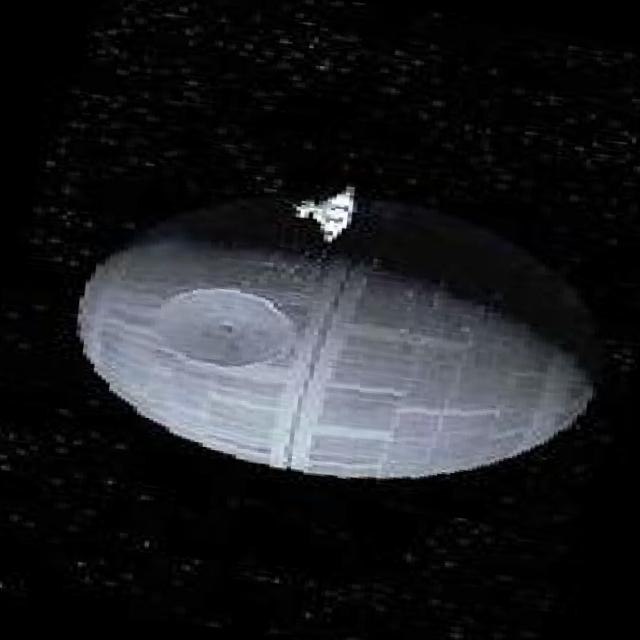Death Star: (57, 153, 624, 508)
